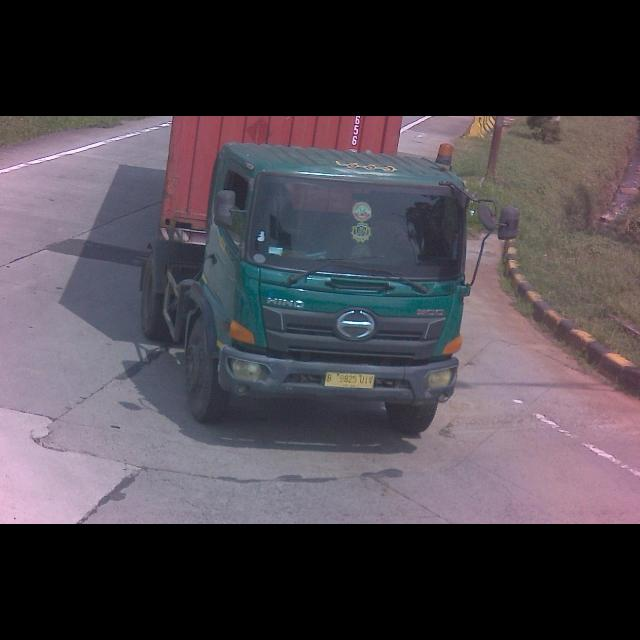plate: (324, 372, 376, 391)
